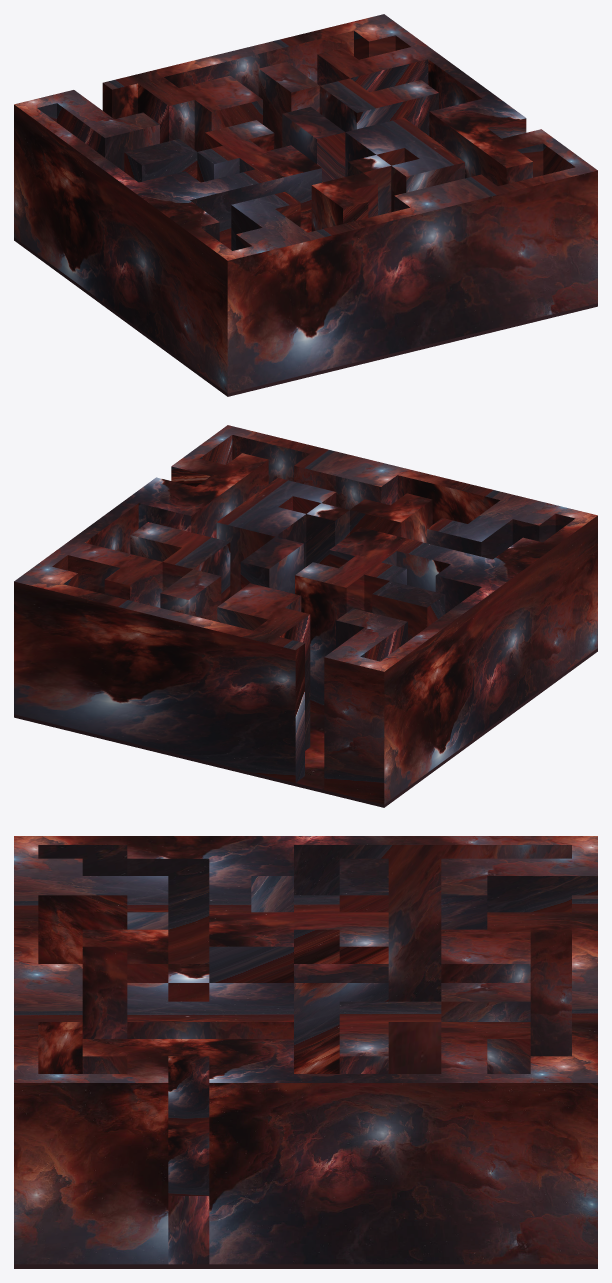
The model's file is Ceklvl3,2.fbx.
The picture shows the model from 3 angles, top to bottom: view 1: azimuth 30°, elevation 25°; view 2: azimuth 150°, elevation 25°; view 3: azimuth 270°, elevation 25°; orthographic projection. The views are drawn at different scales.
Visible parts, largest first — view 1: Cube; view 2: Cube; view 3: Cube.
Part boxes in pixels (x1,y1,x2,y2): Cube: (14, 14, 597, 396); Cube: (14, 425, 597, 807); Cube: (14, 836, 597, 1268).
Bounding box in the file's own units: 1215 × 427 × 1215.
